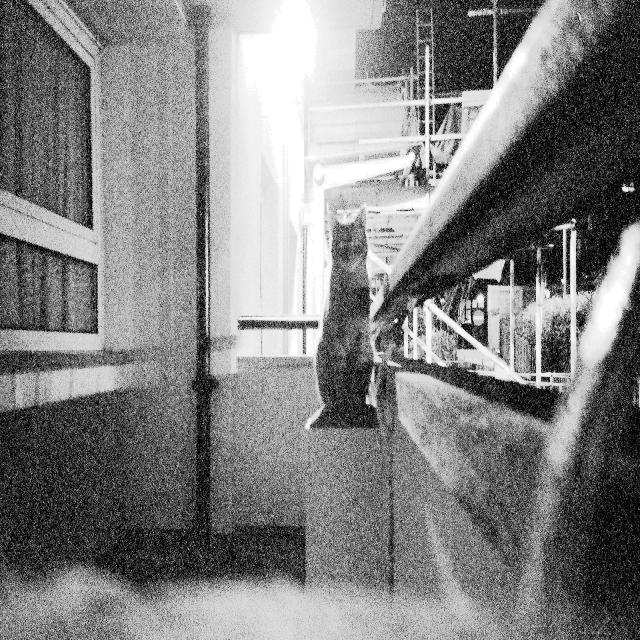Cat: (298, 182, 390, 434)
